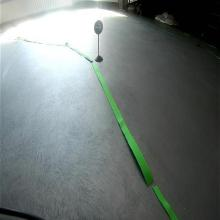right: (94, 20, 104, 36)
